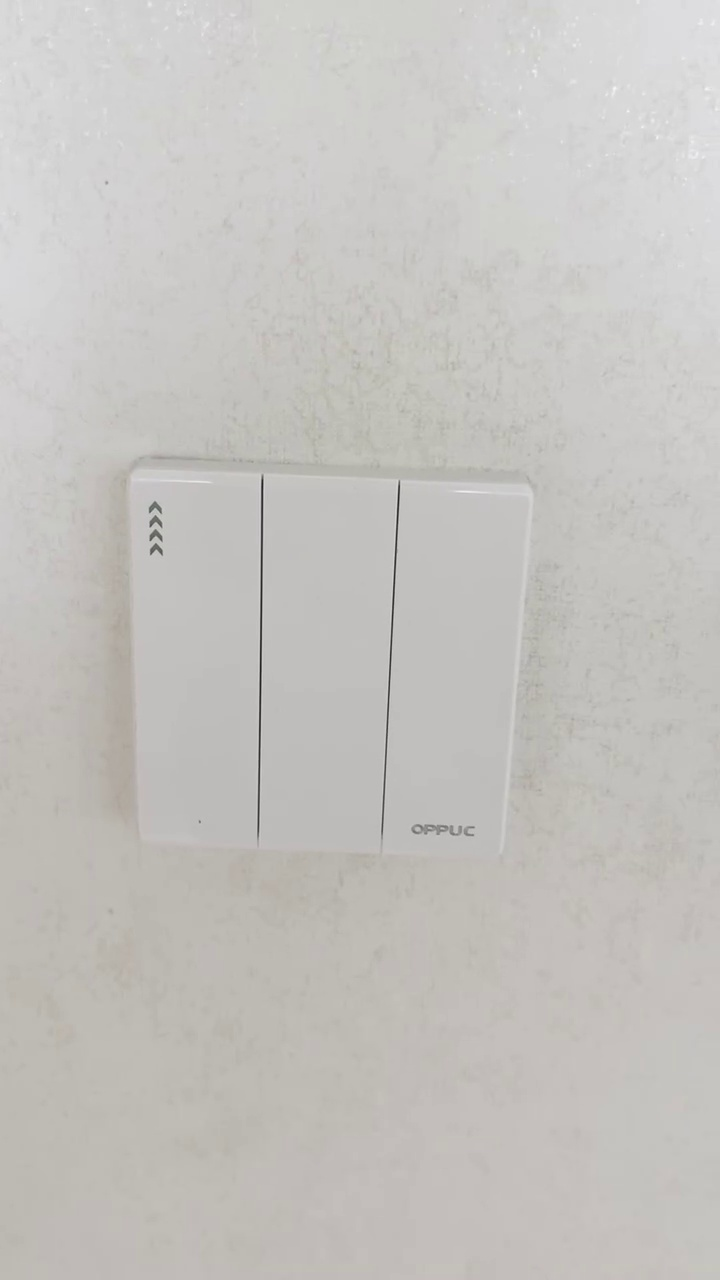button1: (255, 476, 400, 854), (381, 481, 526, 857), (132, 467, 265, 841)
